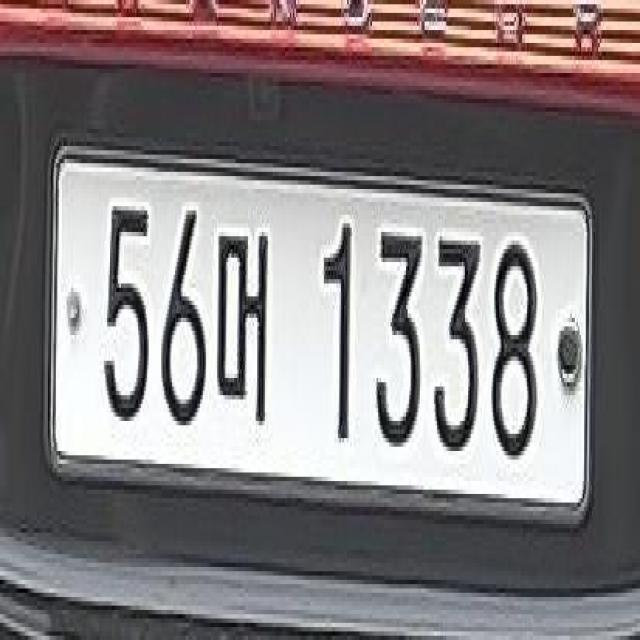illegal_plate: (49, 139, 602, 541)
